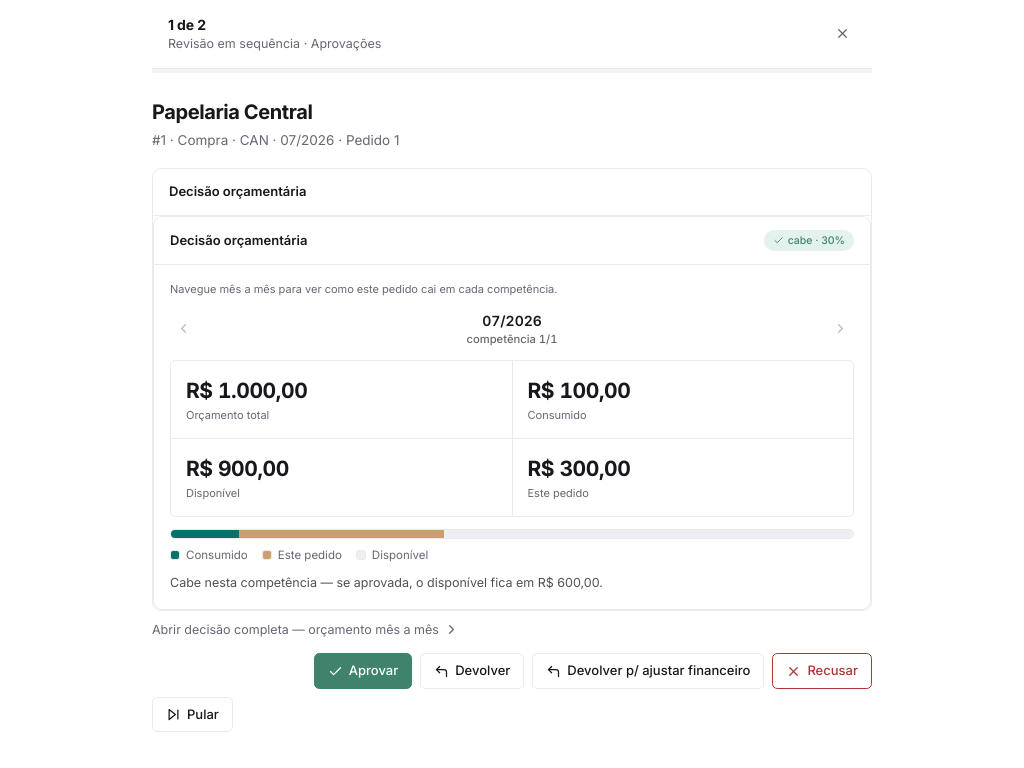
Test case: ApprovalSequence › percorre a fila: 1 de 2 → decidir avança → pular fecha com o resumo decidiu/pulou
The image size is (1024, 768).
Expected: the text "1 de 2" is shown, [168,16,206,33]
Expected: the heading "Papelaria Central" is shown, [152,100,312,124]
Click the button "Aprovar" at (363, 671), box [314,653,412,689]
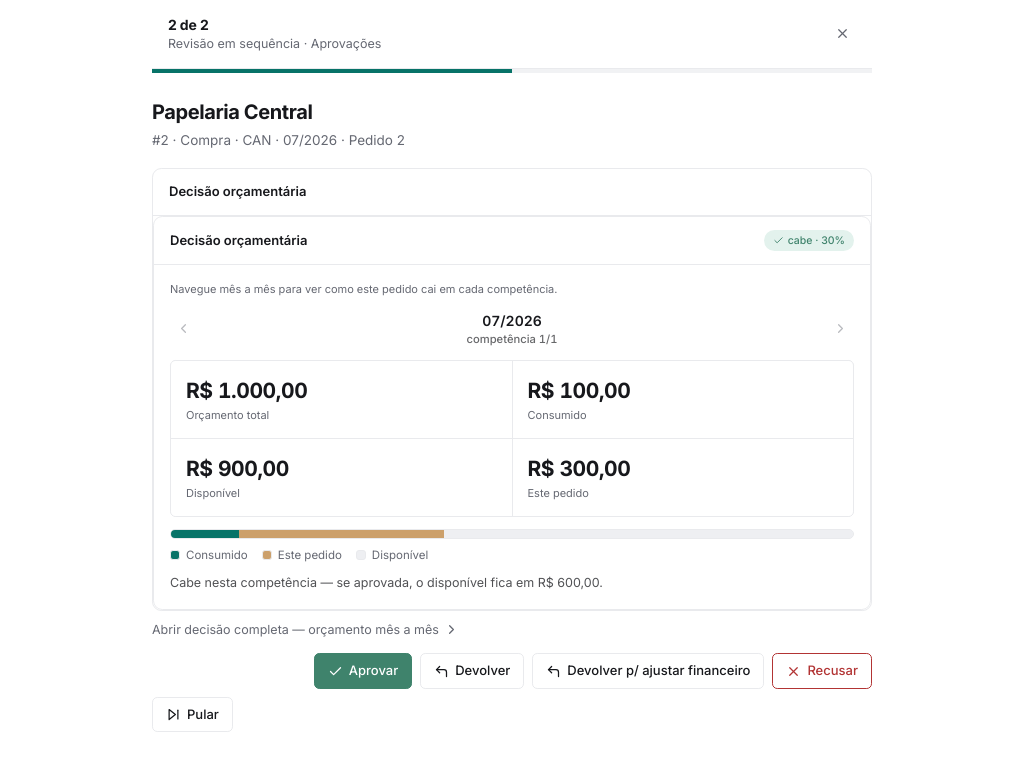
Expected: the text "2 de 2" is shown, [168,16,209,33]
Click the button "Pular" at (192, 715), box [152,697,233,732]
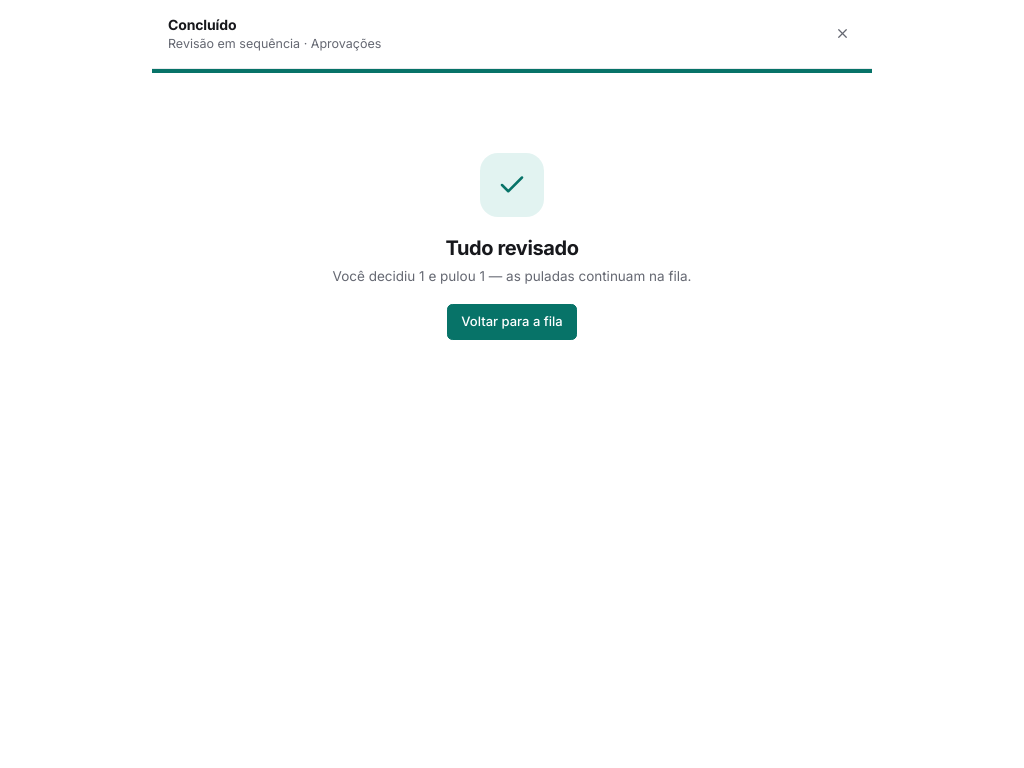
Expected: the heading "Tudo revisado" is shown, [446,236,578,260]
Expected: the text "Você decidiu 1 e pulou 1 — as puladas continuam na fila." is shown, [333,268,691,284]
